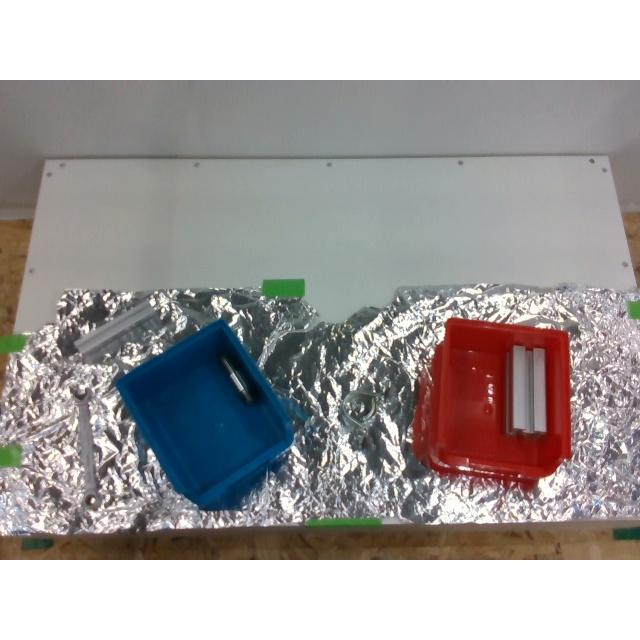Axis2: (219, 354, 253, 404)
F20_20_G: (75, 298, 162, 362)
Housing: (338, 382, 389, 450)
S40_40_G: (504, 346, 548, 438)
Wrench: (74, 392, 98, 504)
container_box_blue: (117, 319, 293, 509)
container_box_red: (434, 317, 572, 479)
